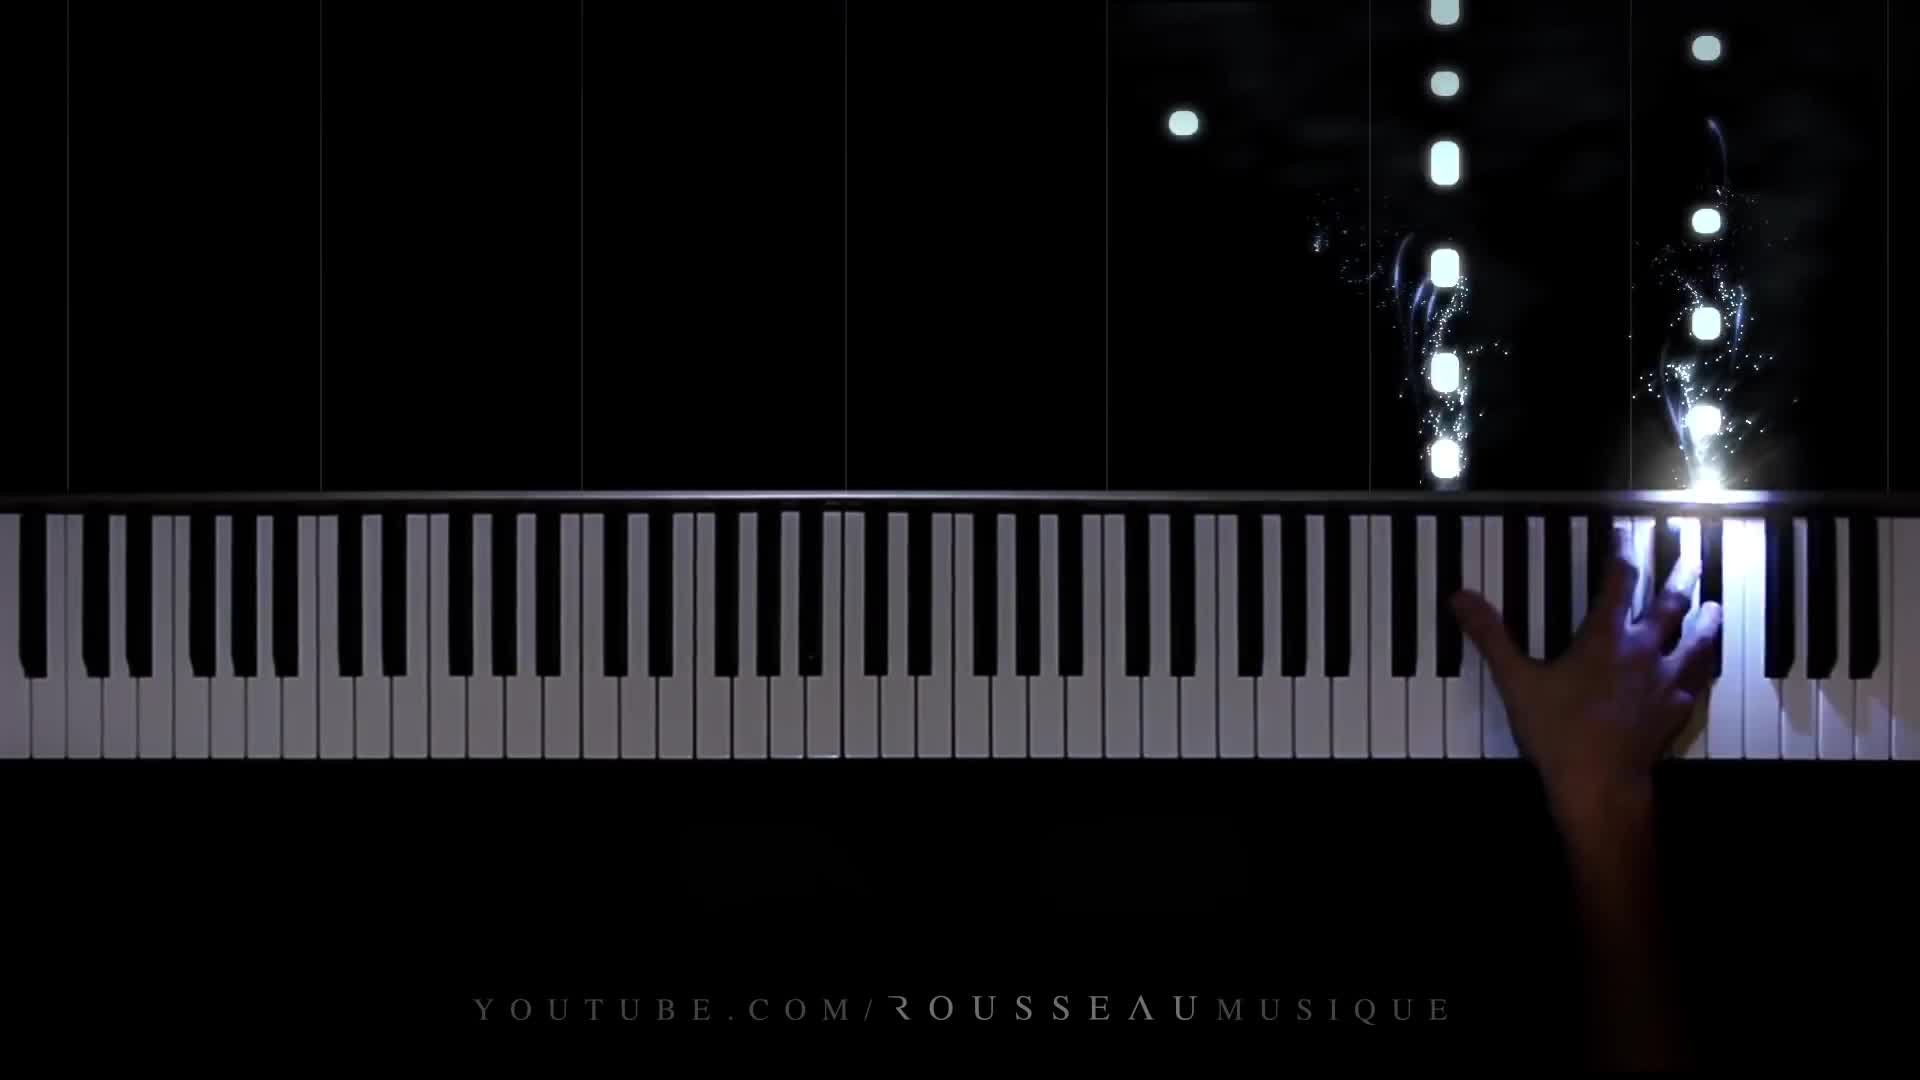right: (1444, 522, 1722, 791)
